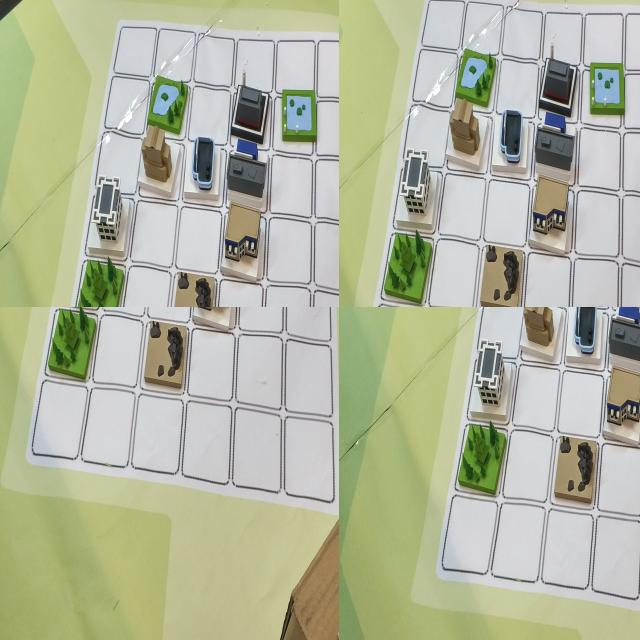bus_stop: (172, 152, 224, 258), (149, 307, 221, 361), (604, 307, 640, 375), (504, 286, 565, 307)
factory: (128, 382, 215, 529), (226, 26, 288, 120), (590, 36, 632, 108), (611, 307, 640, 348)
fish_pool: (394, 55, 444, 139), (53, 261, 103, 307), (233, 307, 294, 342)
forest: (458, 418, 508, 506), (296, 211, 339, 307), (0, 307, 43, 378), (553, 0, 600, 40)
gogo_shop: (502, 184, 556, 277), (79, 171, 134, 257), (562, 307, 607, 376), (252, 307, 321, 349)
research_build: (466, 334, 516, 421), (339, 14, 384, 99), (174, 307, 237, 356)
restaurant: (257, 307, 339, 408), (135, 38, 198, 144), (597, 360, 640, 447), (370, 0, 413, 61)
silicate_rock: (553, 426, 603, 514), (41, 307, 113, 360), (460, 0, 502, 53), (208, 281, 272, 307)
volunteer_center: (126, 307, 192, 362), (411, 0, 452, 63), (151, 258, 202, 307), (517, 307, 560, 364)
wet_land: (0, 307, 42, 363), (524, 307, 575, 345), (626, 84, 640, 165)
